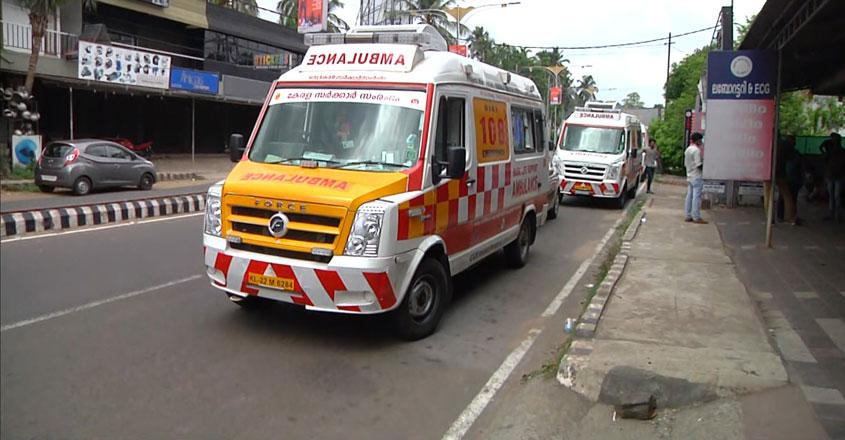ER: (206, 22, 549, 330), (558, 100, 641, 208)
